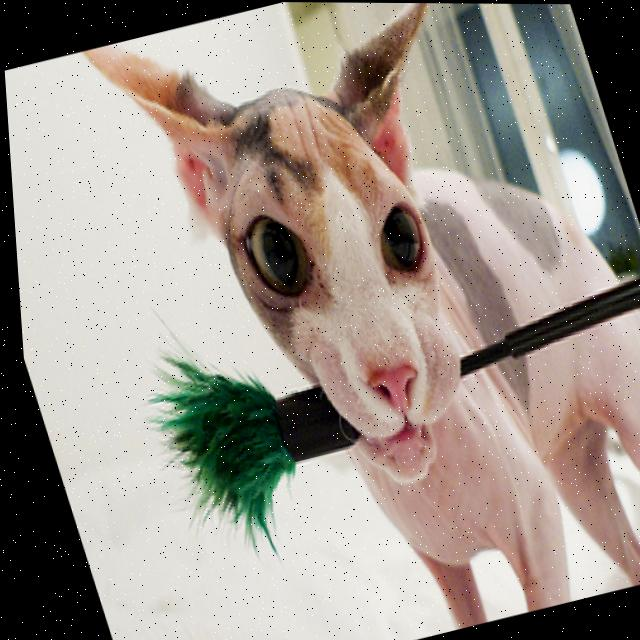Sphynx: (71, 0, 640, 640)
